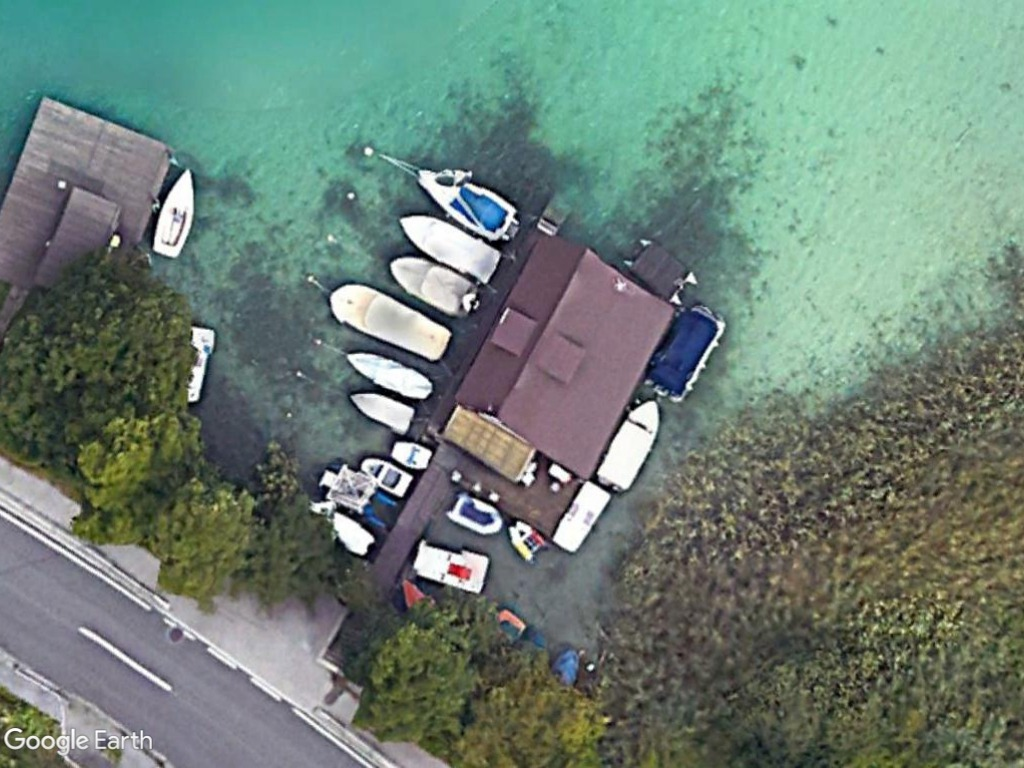boat: (325, 278, 454, 366), (412, 163, 520, 246), (394, 212, 505, 288), (591, 392, 664, 496), (386, 251, 482, 319), (145, 164, 203, 261), (342, 346, 436, 403), (443, 486, 507, 538), (346, 389, 418, 435), (358, 453, 415, 498), (503, 514, 551, 567)
